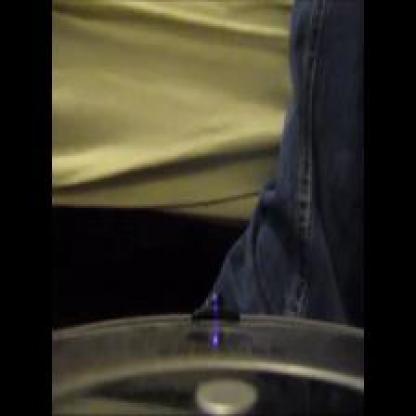other: (50, 73, 274, 244)
